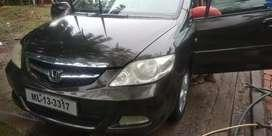ML133317: (24, 86, 75, 114)
